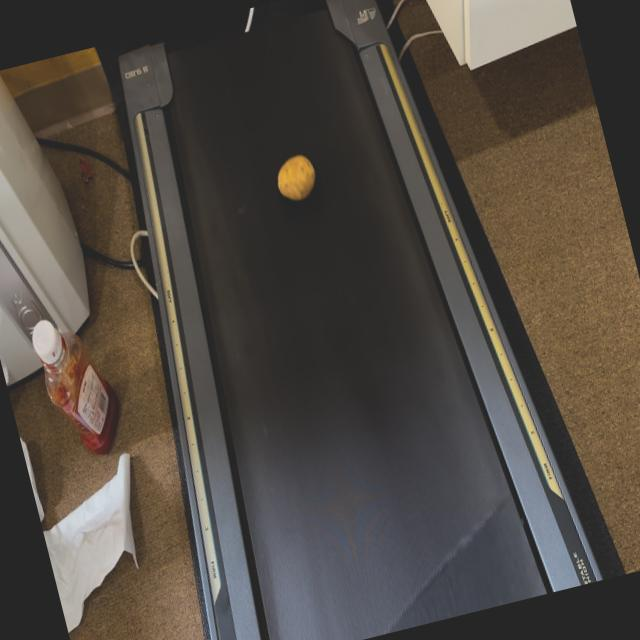Trash: (272, 152, 321, 205)
